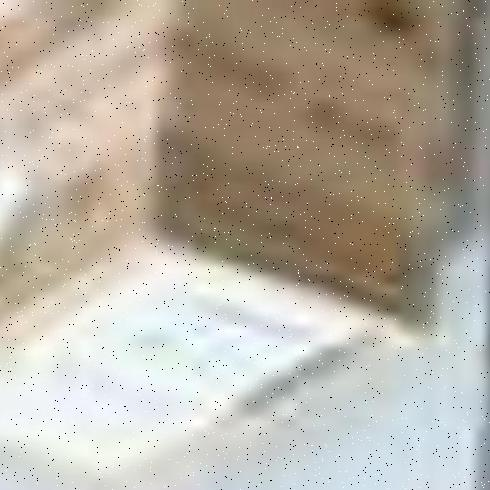Other: (0, 9, 426, 483)
